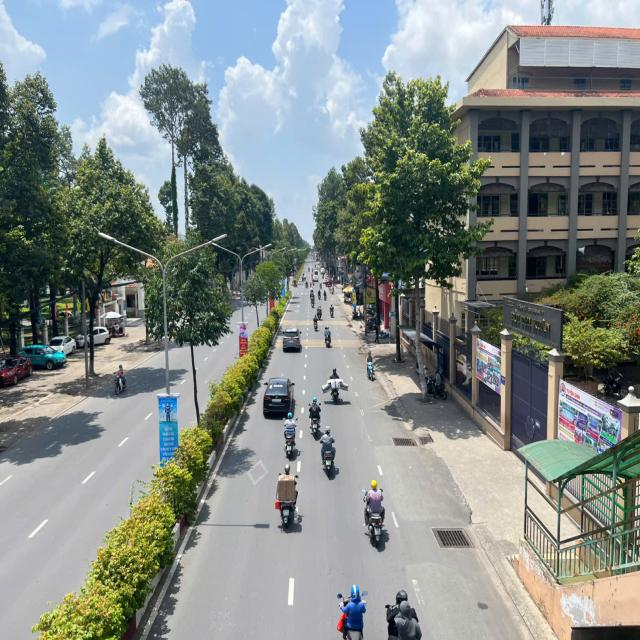car: (260, 370, 298, 423), (280, 320, 304, 358)
motobyte: (360, 478, 392, 551), (274, 460, 300, 536), (318, 422, 337, 479), (306, 394, 324, 443), (282, 405, 297, 461), (324, 364, 344, 406), (111, 362, 130, 398), (361, 347, 377, 383), (322, 320, 332, 349), (327, 300, 337, 320), (312, 310, 319, 334)
